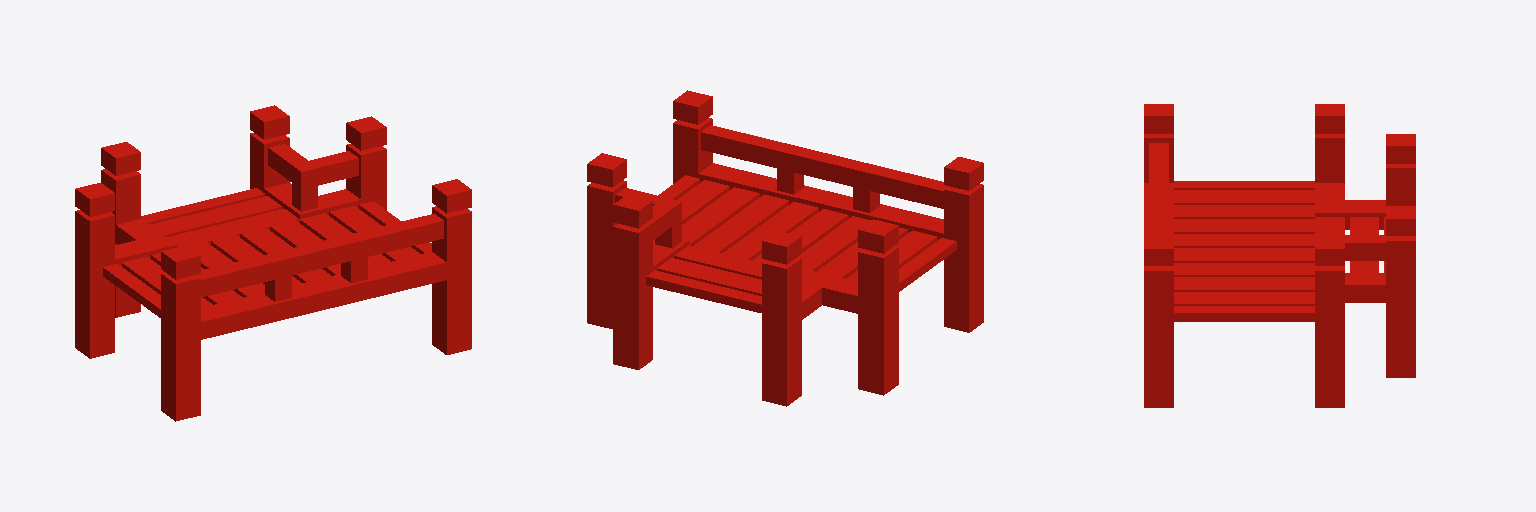
3 views of the same model, side by side, from view 1: azimuth 30°, elevation 25°; view 2: azimuth 150°, elevation 25°; view 3: azimuth 270°, elevation 25° (orthographic).
Parts seen in each view (by area): view 1: cube; view 2: cube; view 3: cube.
Part boxes in pixels (x1,y1,x2,y2): cube: (75, 105, 471, 421); cube: (587, 90, 983, 406); cube: (1144, 104, 1415, 407).
Bounding box in the file's own units: 1.09 × 0.5625 × 0.8672.
Materials: 1 (1 with a texture image).